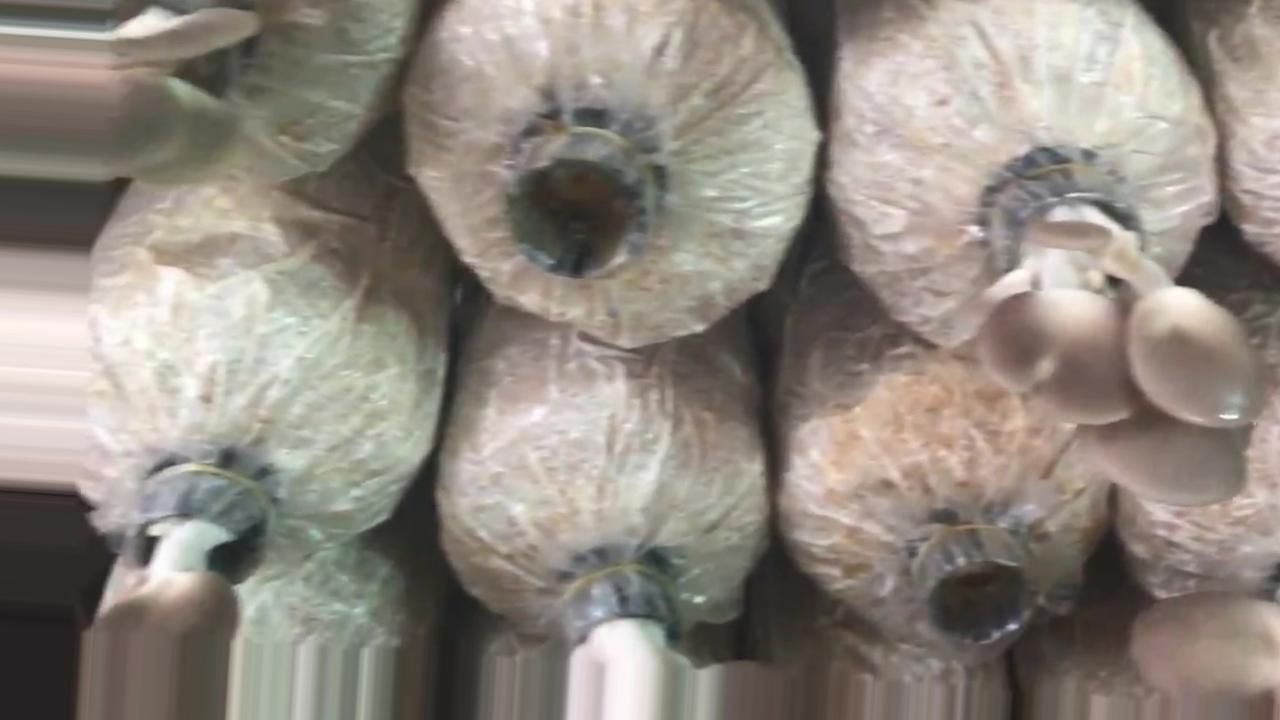nam: (977, 152, 1267, 514), (77, 467, 274, 720)
